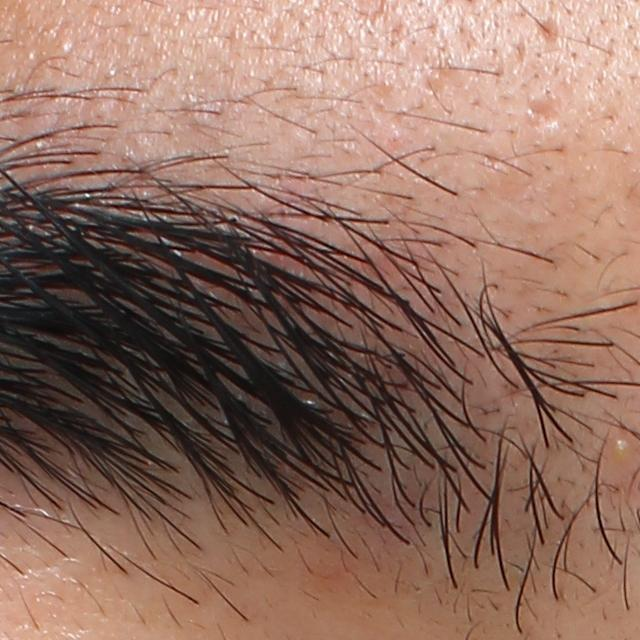atrophic_scar: (524, 92, 562, 127), (536, 15, 567, 47)
